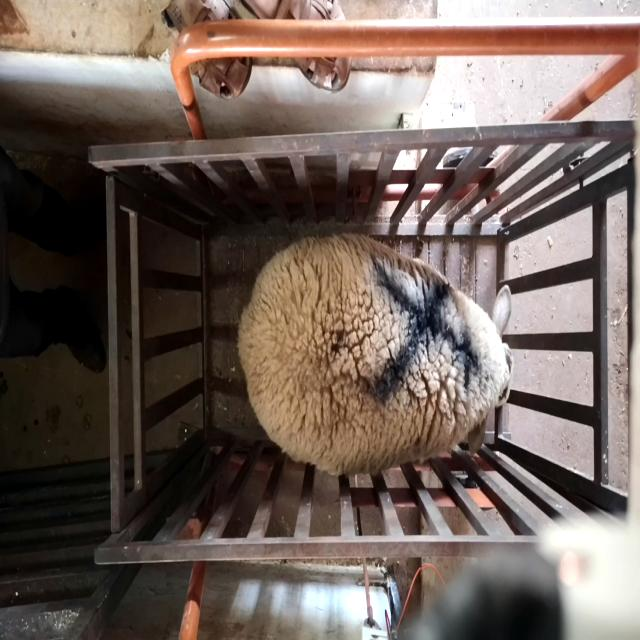sheep: (237, 233, 514, 476)
